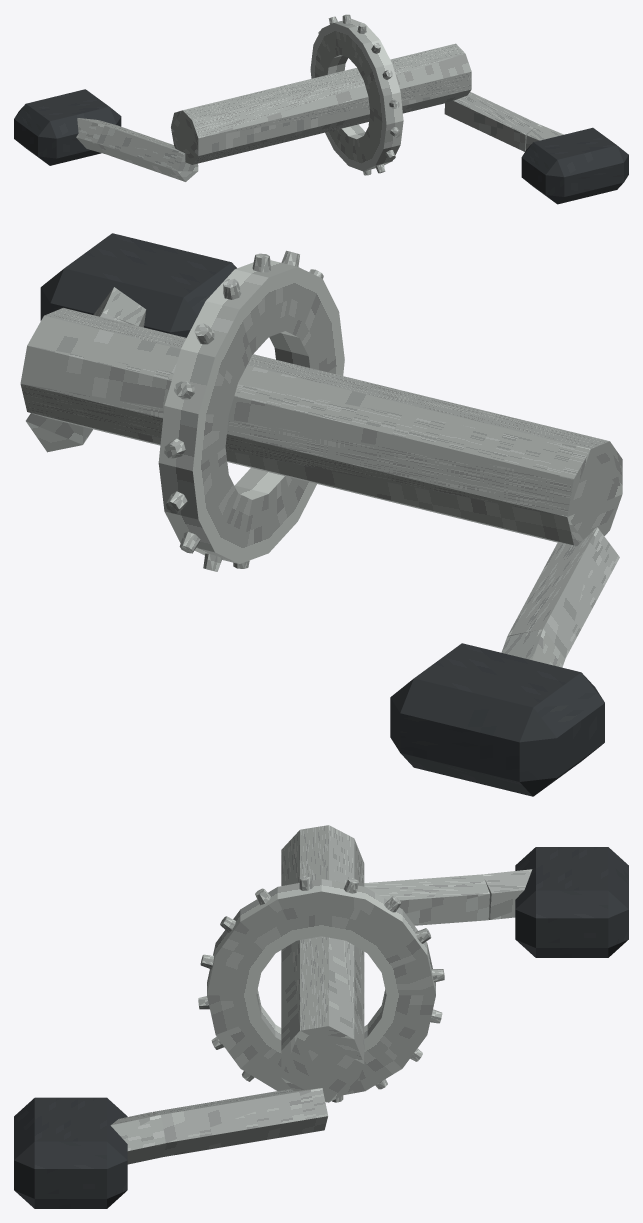
Rendered from foot_crank.glb.
3 views of the same model, one above another, from view 1: azimuth 30°, elevation 25°; view 2: azimuth 150°, elevation 25°; view 3: azimuth 270°, elevation 25° (orthographic). The views are drawn at different scales.
Parts seen in each view (by area): view 1: block_crank axle, block_rubber pedal (×2), block_crank chain ring, block_crank arm 0 (×2), block_crank arm 1 (×2); view 2: block_crank axle, block_rubber pedal (×2), block_crank chain ring, block_crank arm 0 (×2), block_crank arm 1 (×2); view 3: block_crank chain ring, block_rubber pedal (×2), block_crank axle, block_crank arm 0 (×2), block_crank arm 1 (×2).
Part boxes in pixels (x1,y1,x2,y2): block_crank axle: (171, 43, 471, 164); block_rubber pedal (×2): (14, 89, 628, 204); block_crank chain ring: (310, 18, 403, 171); block_crank arm 0 (×2): (97, 92, 538, 181); block_crank arm 1 (×2): (76, 118, 563, 153); block_crank axle: (20, 308, 622, 546); block_rubber pedal (×2): (40, 233, 604, 796); block_crank chain ring: (158, 260, 344, 563); block_crank arm 0 (×2): (26, 313, 619, 658); block_crank arm 1 (×2): (93, 287, 565, 667); block_crank chain ring: (207, 879, 435, 1094); block_rubber pedal (×2): (14, 847, 628, 1208); block_crank axle: (281, 825, 364, 1102); block_crank arm 0 (×2): (153, 874, 489, 1157); block_crank arm 1 (×2): (110, 869, 532, 1164).
Size of the model in its own units: 0.1508 by 0.0503 by 0.1256.
Materials: 1 (1 with a texture image).
